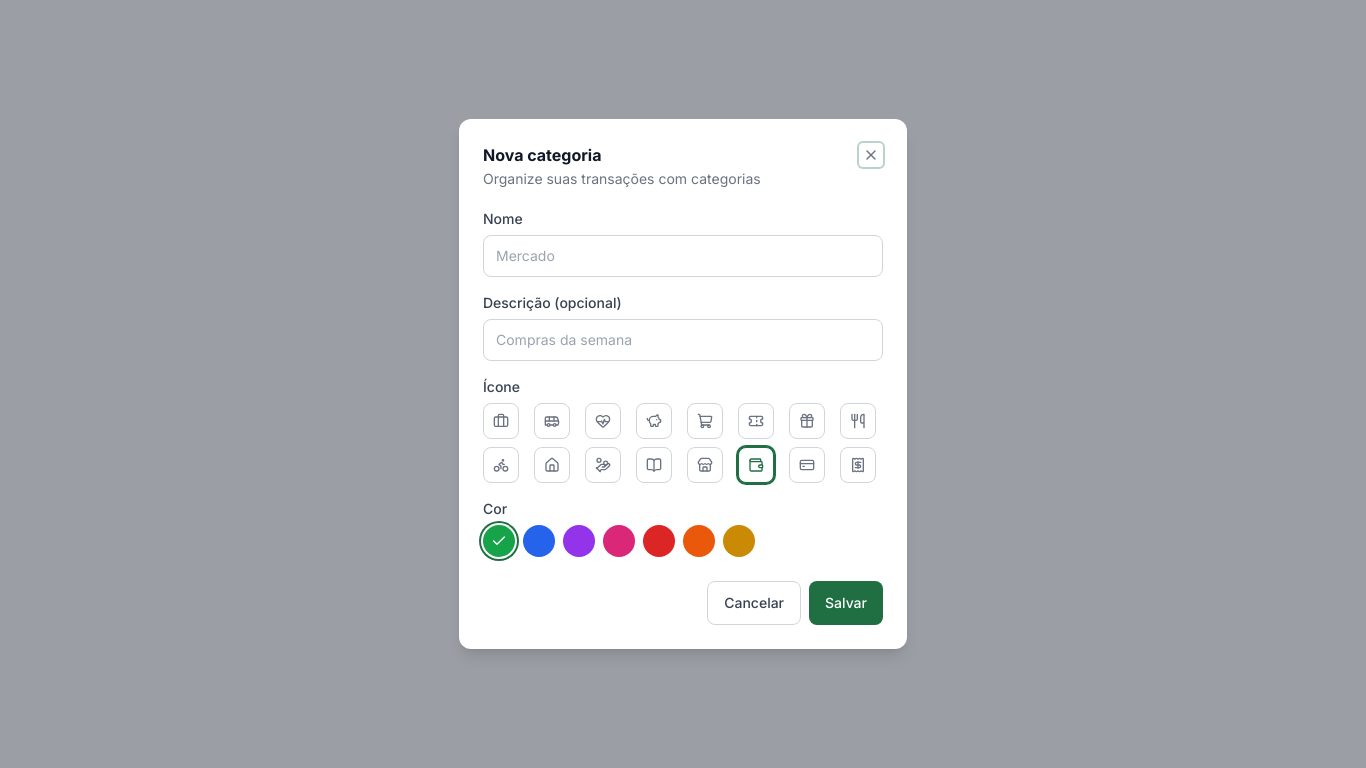
Test: CategoryDialog › rejects an empty name without sending anything
Click the button "Salvar" at (846, 603), box [809,581,883,625]
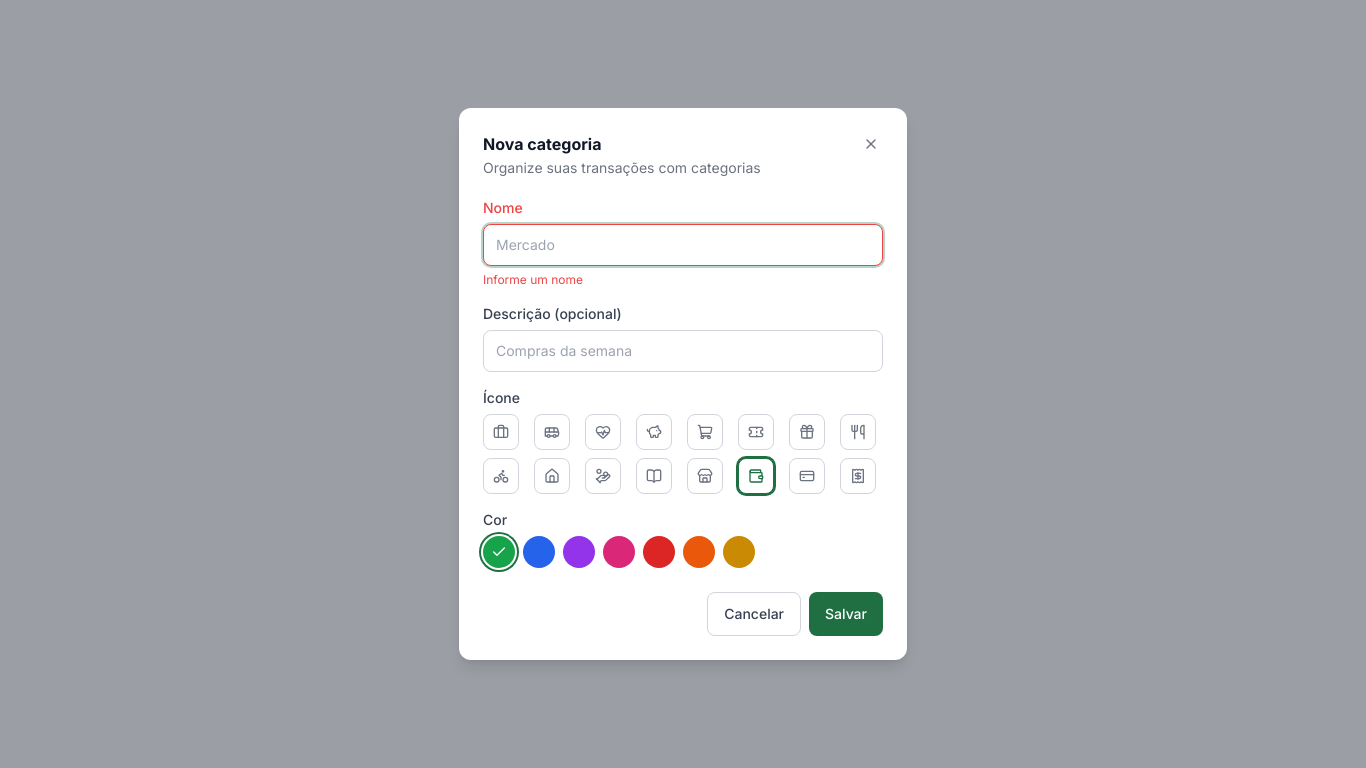
Now the text "Informe um nome" is shown, box [483,272,583,287]
